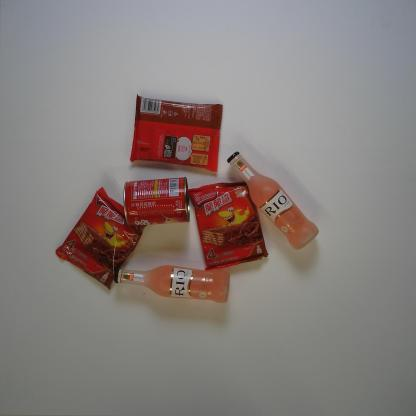Alcohol: (226, 150, 320, 252), (113, 264, 231, 304)
Canned Food: (122, 176, 191, 228)
Dessert: (53, 185, 148, 292), (185, 178, 269, 271), (128, 93, 224, 173)
